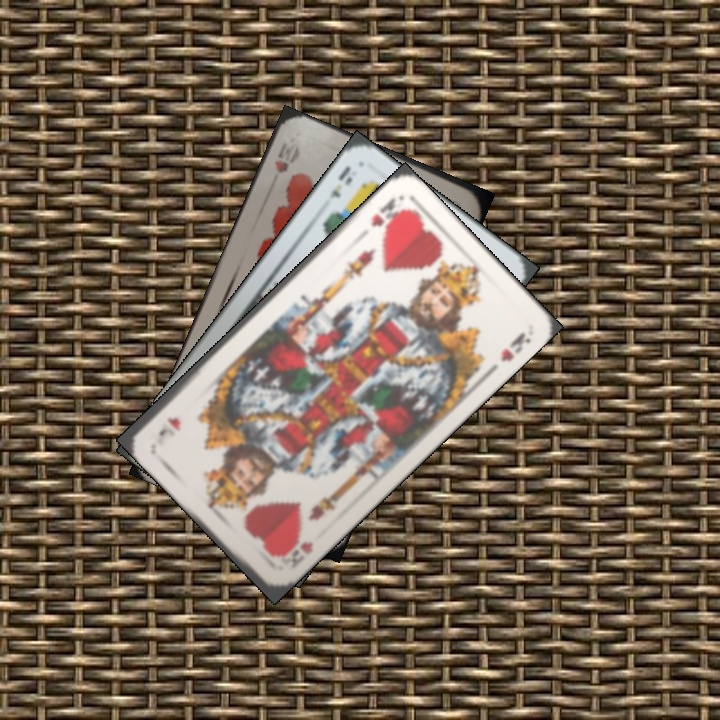EK: (317, 162, 355, 209)
H10: (270, 138, 302, 176)
HK: (274, 529, 316, 572), (367, 193, 408, 230)
